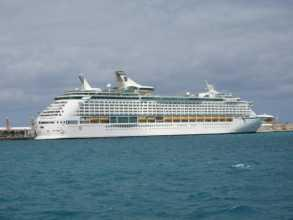youlun: (33, 68, 271, 143)
